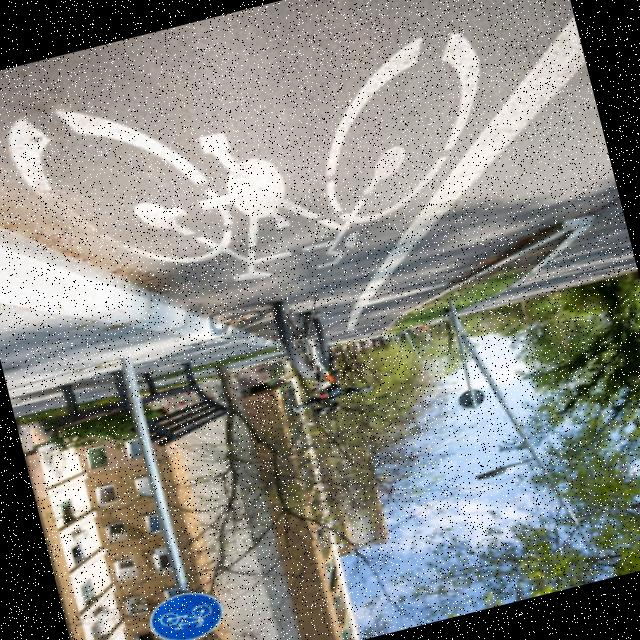bicycle: (116, 569, 237, 640)
